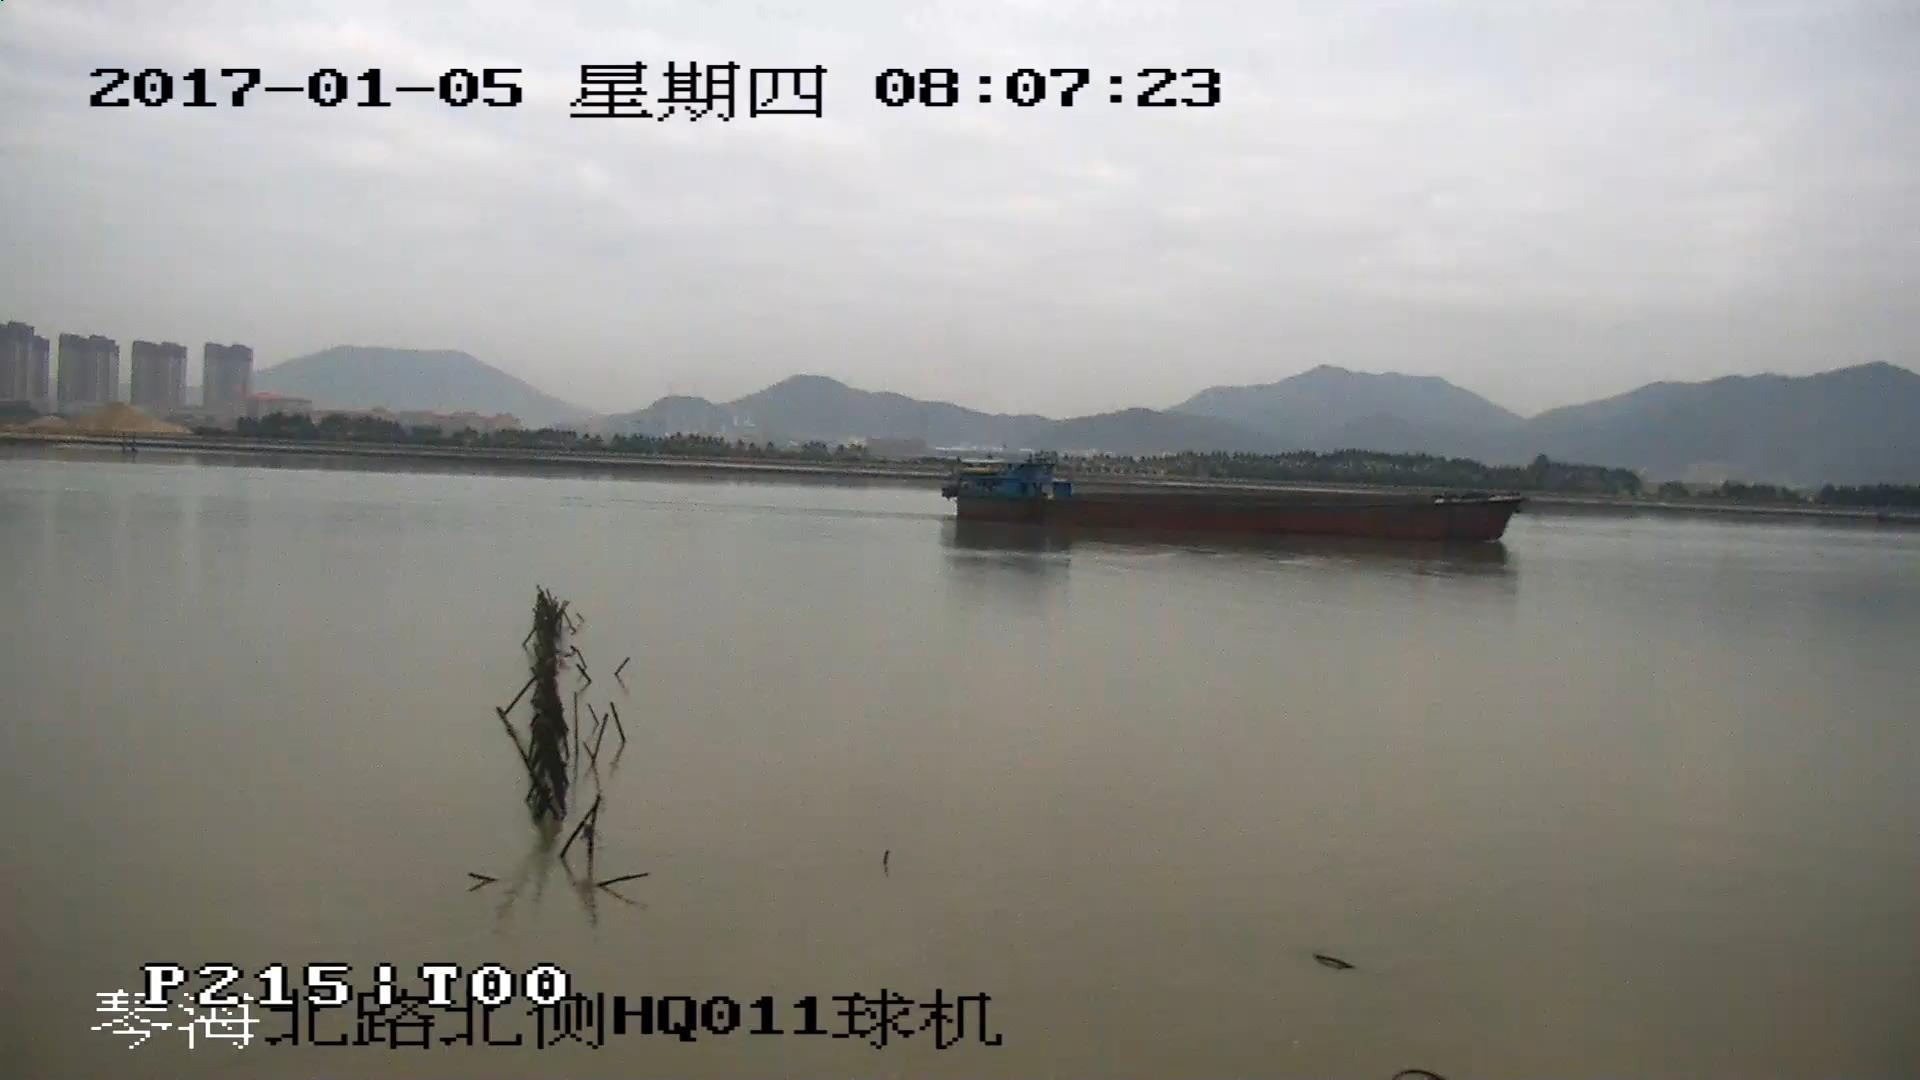Ship: (944, 454, 1520, 547)
